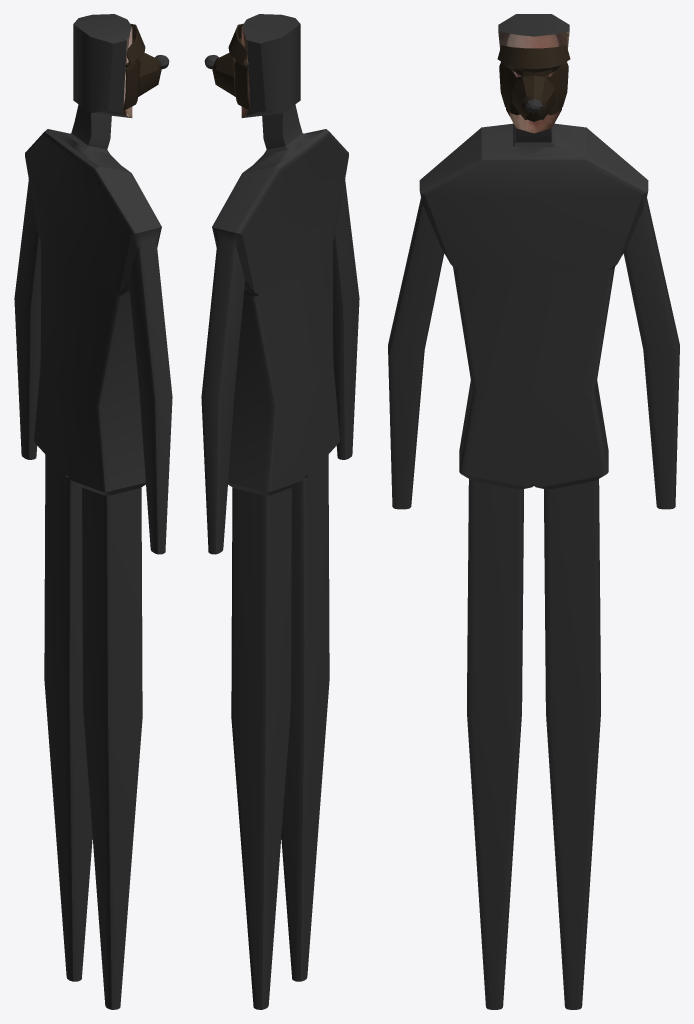
The model's file is Chien.fbx.
3 renders of one model, left to right at view 1: azimuth 30°, elevation 25°; view 2: azimuth 150°, elevation 25°; view 3: azimuth 270°, elevation 25°, orthographic. The views are drawn at different scales.
Visible parts, largest first — view 1: Chien; view 2: Chien; view 3: Chien.
Part boxes in pixels (x1=…): Chien: x1=14, y1=14, x2=172, y2=1009; Chien: x1=201, y1=14, x2=359, y2=1009; Chien: x1=388, y1=14, x2=679, y2=1009.
Bounding box in the file's own units: 1.18 × 10.93 × 2.93.
